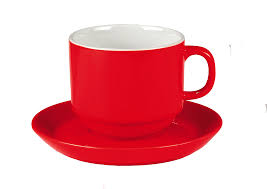cup: (54, 21, 226, 142)
